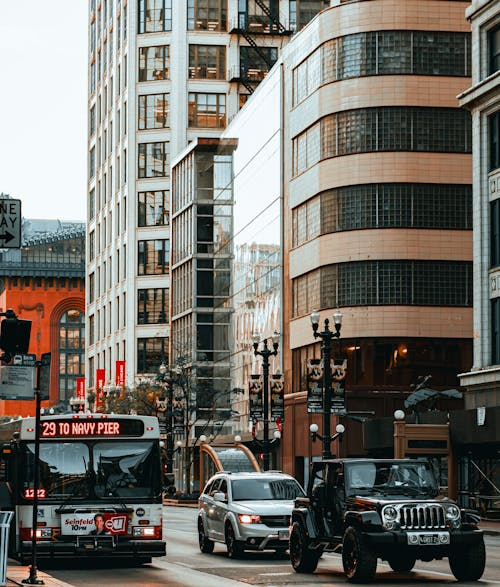other: (2, 411, 166, 566), (287, 455, 487, 581), (189, 474, 313, 559)
